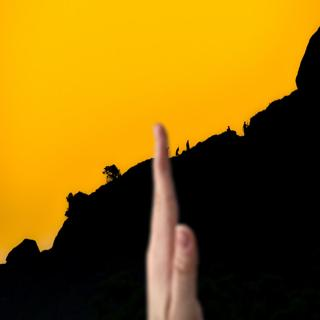Right: (137, 115, 206, 317)
